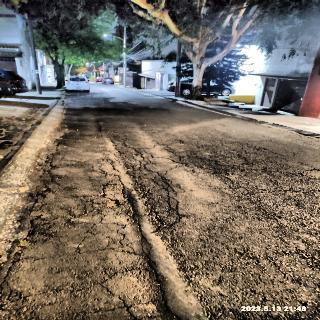alligator-crack: (120, 150, 195, 224)
crack: (0, 128, 73, 304), (40, 210, 135, 316), (116, 181, 180, 320), (226, 145, 316, 202)
